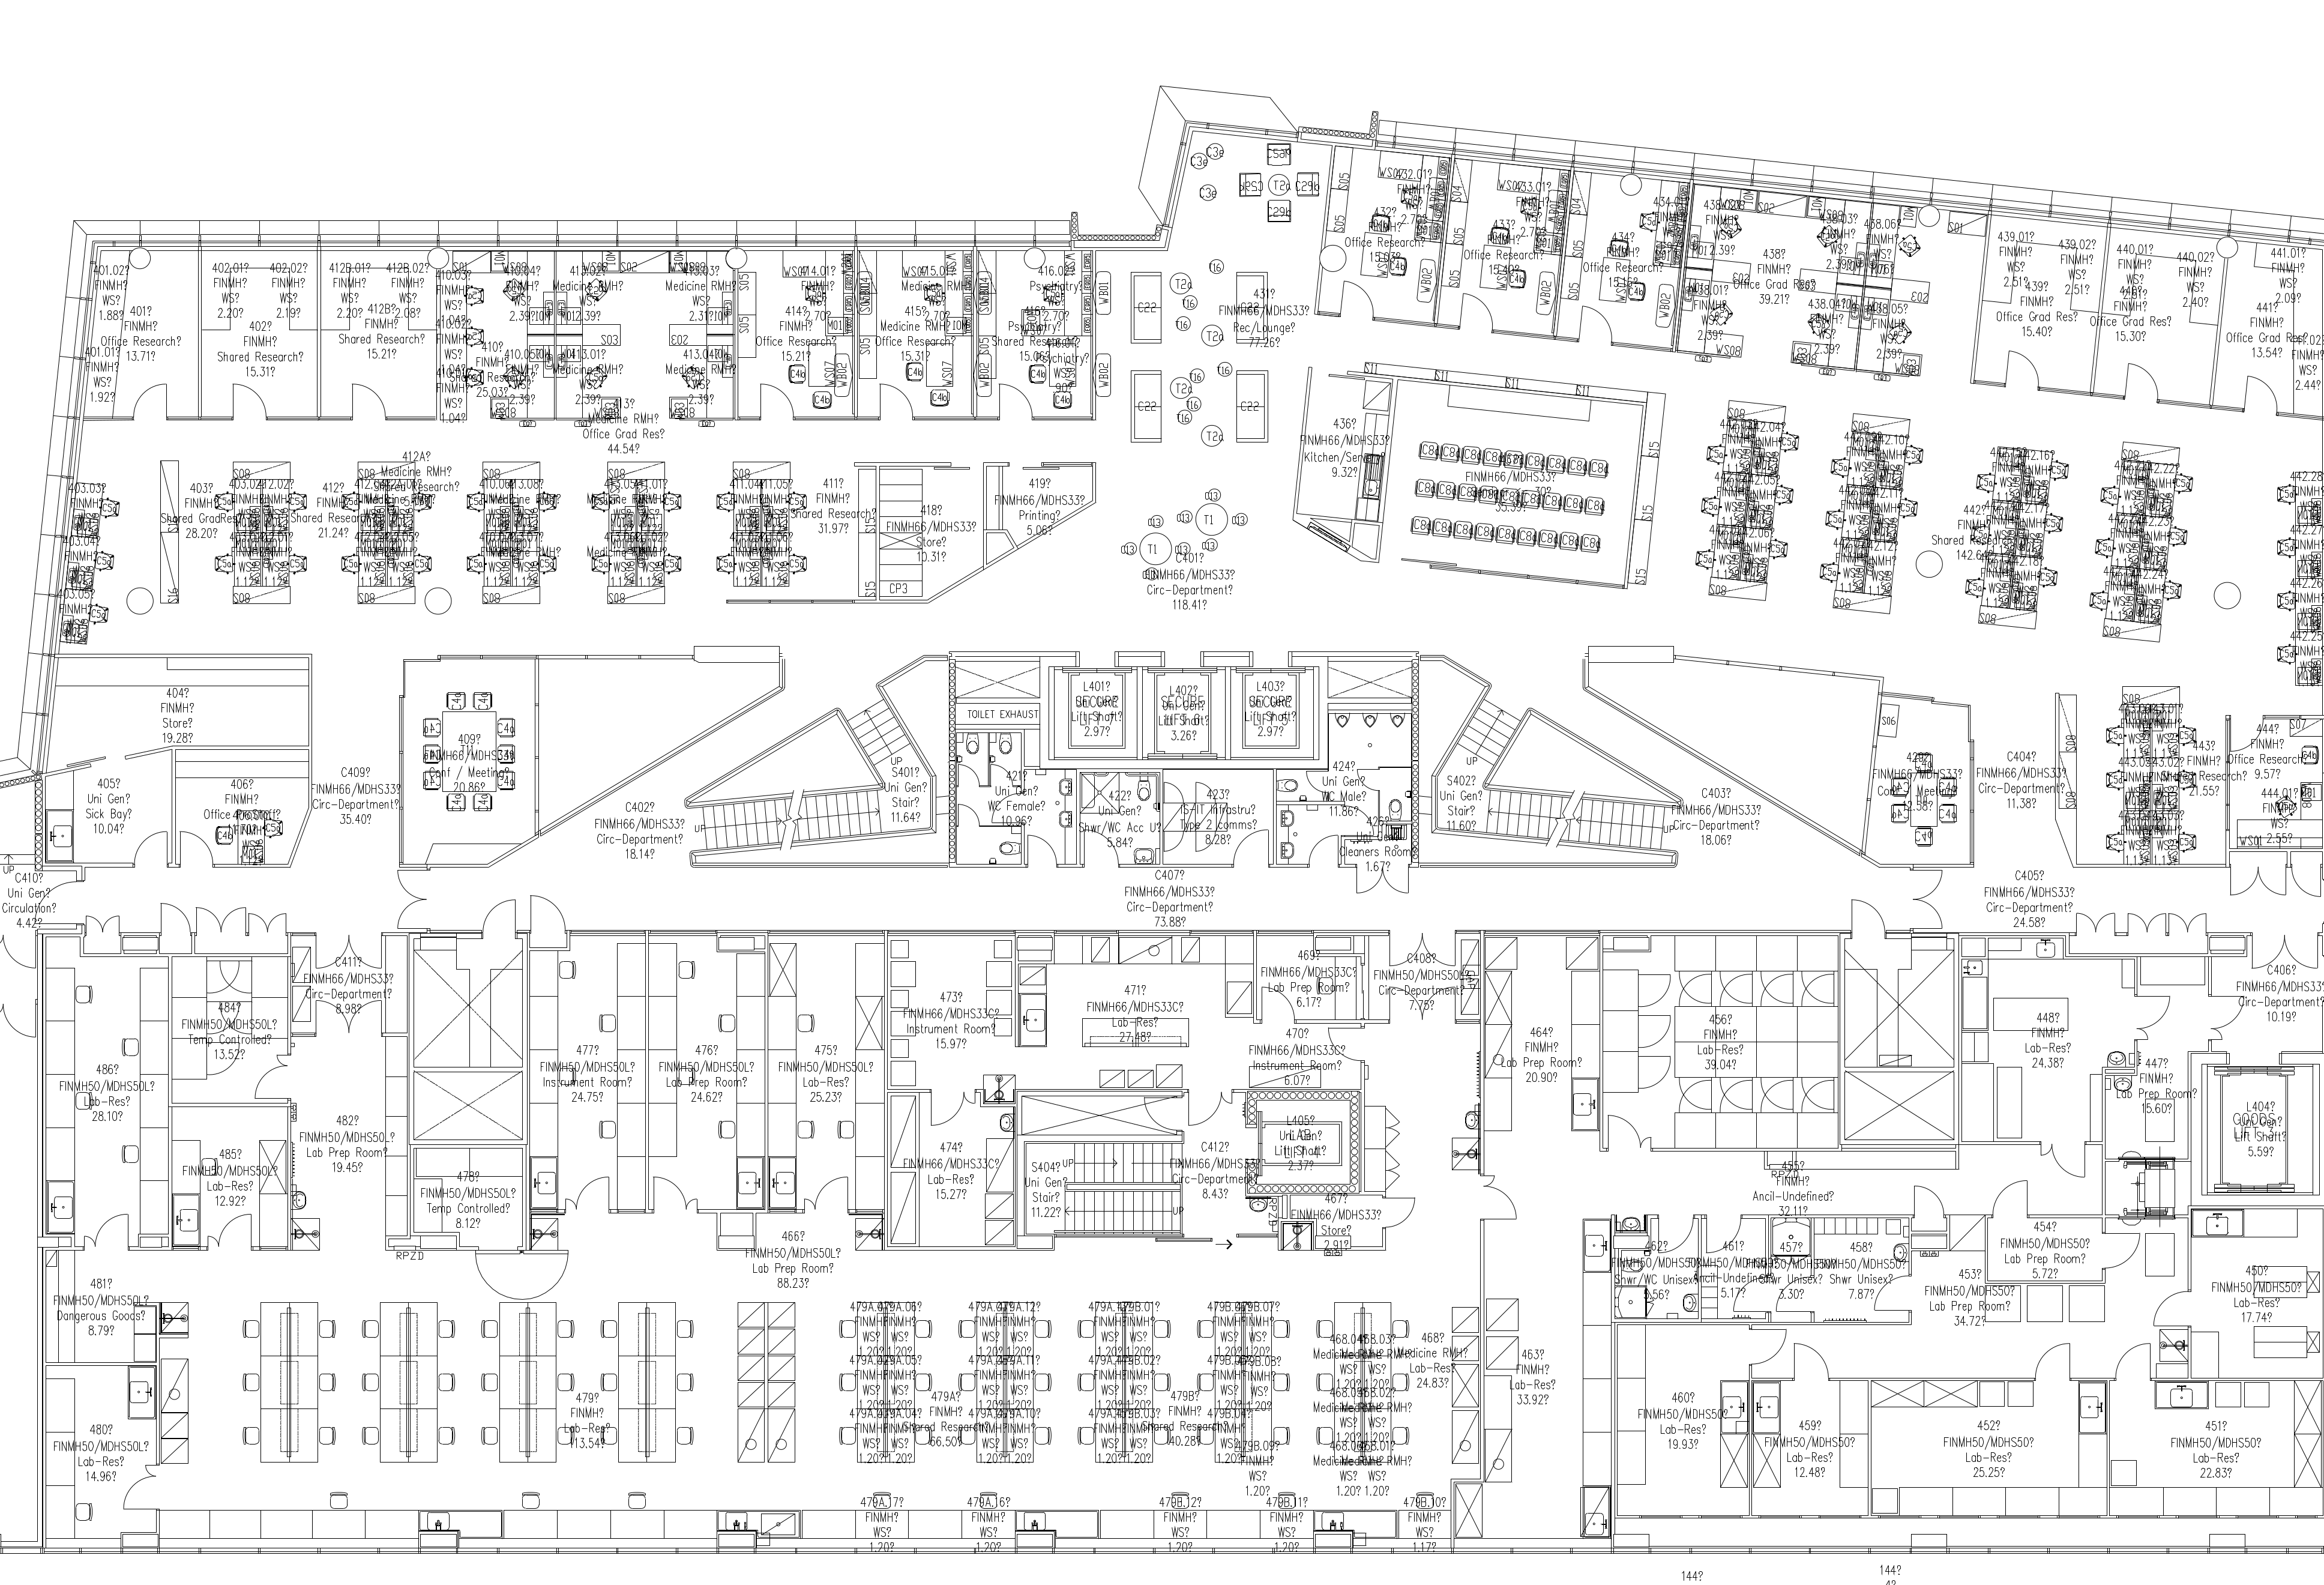room: (161, 1301, 1483, 1553), (83, 422, 858, 647), (1379, 371, 1674, 611), (1678, 182, 1990, 383), (1602, 937, 1838, 1152), (1097, 251, 1307, 463), (1483, 1216, 1612, 1537), (44, 935, 171, 1251), (556, 251, 733, 458), (1017, 937, 1254, 1090), (648, 931, 766, 1217), (768, 929, 887, 1214), (530, 931, 645, 1214), (1872, 1380, 2107, 1516), (394, 652, 533, 868), (2109, 1382, 2322, 1516), (1962, 938, 2101, 1141), (2077, 677, 2225, 866), (1485, 937, 1600, 1175), (1105, 465, 1270, 631), (1969, 209, 2112, 394), (2089, 224, 2230, 410), (1314, 145, 1453, 330), (1552, 168, 1690, 353), (1437, 155, 1573, 341), (1618, 1327, 1748, 1514), (293, 1037, 406, 1251), (51, 657, 309, 746), (2192, 1210, 2322, 1378), (436, 251, 553, 431), (48, 1366, 159, 1551), (2211, 239, 2322, 422), (888, 931, 1017, 1088), (887, 1094, 1014, 1251), (320, 251, 436, 417), (201, 251, 316, 417), (738, 251, 853, 417), (858, 251, 973, 417), (85, 251, 198, 417), (978, 251, 1091, 417), (173, 958, 290, 1103), (173, 1108, 291, 1249), (1863, 709, 1967, 864), (1752, 1380, 1867, 1516), (177, 749, 309, 866), (1289, 378, 1397, 519), (1844, 931, 1955, 1067), (42, 751, 171, 866), (879, 466, 984, 599), (2207, 1067, 2313, 1194), (2211, 935, 2322, 1051), (46, 1249, 155, 1361), (1913, 1214, 1987, 1378), (2230, 719, 2322, 848), (415, 1149, 521, 1251), (1162, 770, 1273, 864), (1815, 1217, 1909, 1322), (1257, 937, 1362, 1023), (954, 730, 1021, 864), (987, 466, 1093, 550), (2107, 1051, 2188, 1159), (1614, 1217, 1697, 1320), (1257, 1099, 1351, 1184), (1229, 668, 1314, 760), (1143, 671, 1226, 762), (1054, 671, 1137, 762), (1079, 772, 1158, 864), (1987, 1219, 2101, 1281), (1254, 1023, 1360, 1088), (1702, 1217, 1766, 1318), (1279, 770, 1340, 864), (1289, 1196, 1385, 1249), (1026, 770, 1075, 864), (1769, 1217, 1810, 1322), (1346, 841, 1411, 899)
